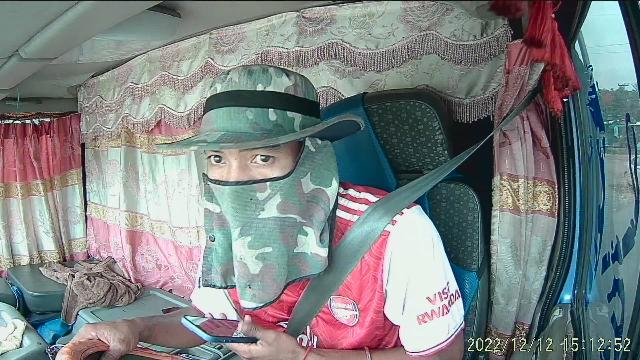PhoneUse: (180, 312, 260, 346)
SafeDriving: (244, 147, 281, 169), (200, 148, 232, 168)
Seatbelt: (284, 145, 483, 341)
